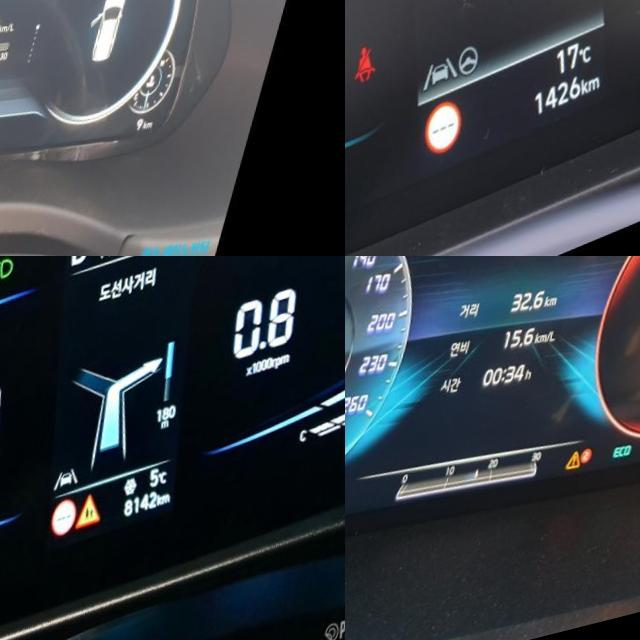Central Warning lamp: (577, 470, 597, 493)
LaneCenteringOff: (62, 479, 90, 506)
Low beam: (0, 265, 17, 293)
